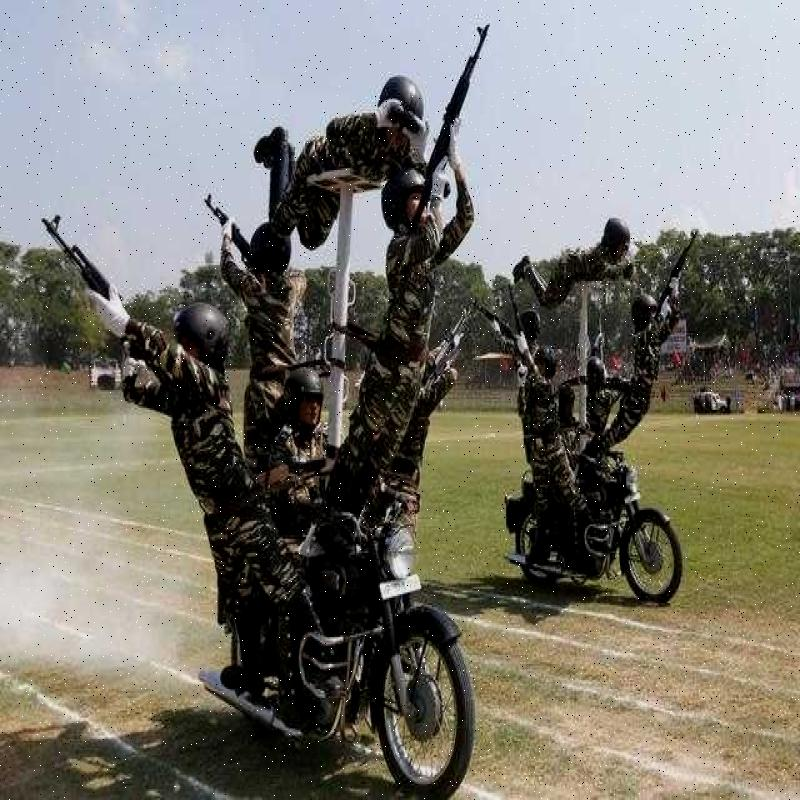bike: (335, 471, 514, 800), (600, 442, 683, 618)
